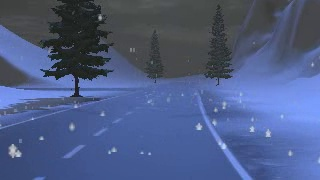Lane: (1, 84, 247, 179)
